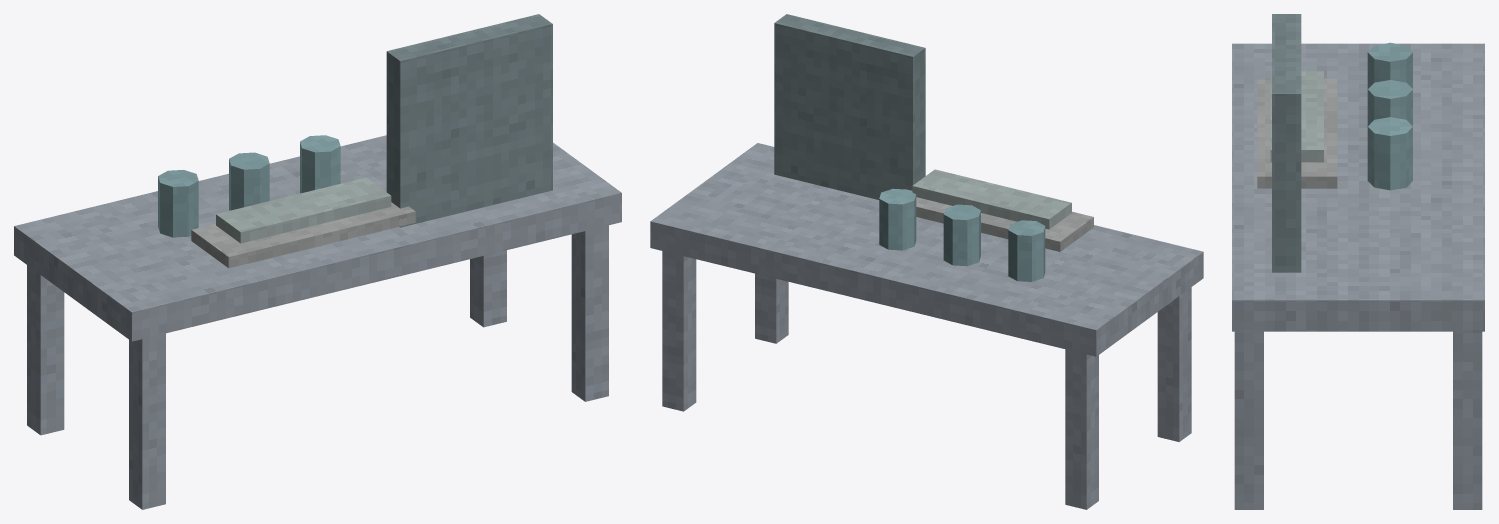
File: level_blockout_research_sample_station.glb
3 views of the same model, side by side, from view 1: azimuth 30°, elevation 25°; view 2: azimuth 150°, elevation 25°; view 3: azimuth 270°, elevation 25° (orthographic). The views are drawn at different scales.
Parts seen in each view (by area): view 1: level_blockout_research_sample_station; view 2: level_blockout_research_sample_station; view 3: level_blockout_research_sample_station.
Boxes of the visible parts, <box> form: level_blockout_research_sample_station: <box>14,14,621,509</box>; level_blockout_research_sample_station: <box>650,14,1203,509</box>; level_blockout_research_sample_station: <box>1232,14,1484,509</box>.
Bounding box in the file's own units: 2.28 × 1.64 × 0.95.
Materials: 5 (5 with a texture image).
